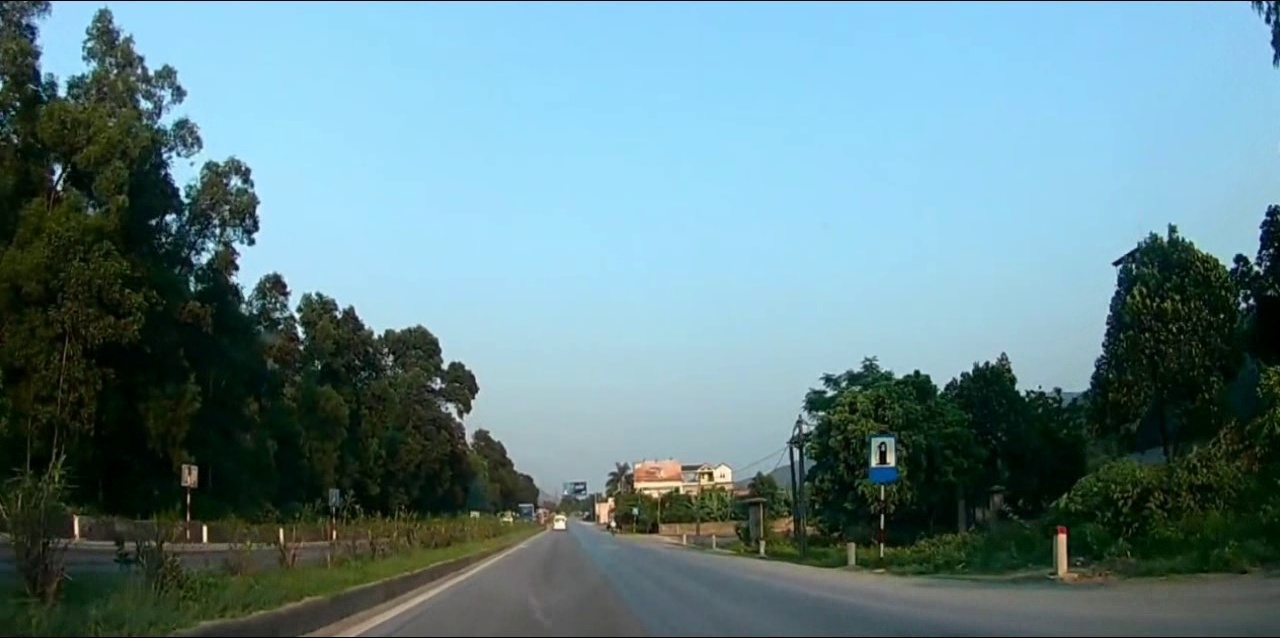Bien khac: (867, 433, 897, 486)
